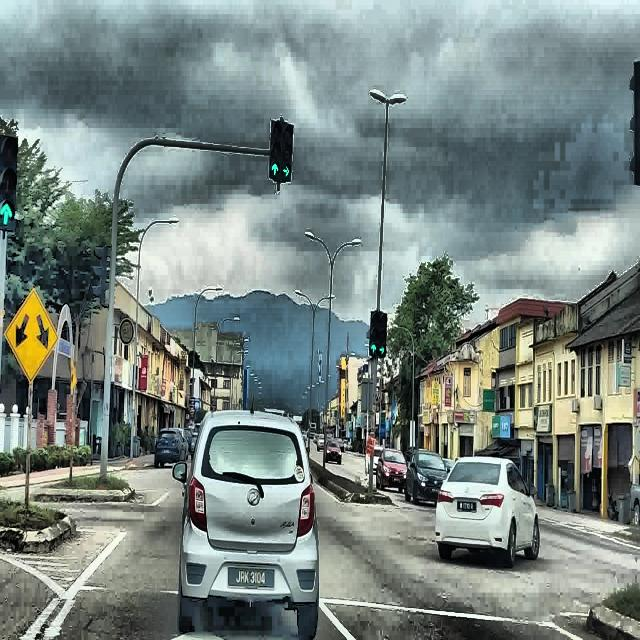green: (0, 135, 17, 227), (270, 120, 284, 182), (281, 122, 294, 182), (368, 311, 378, 353), (379, 313, 387, 355)
